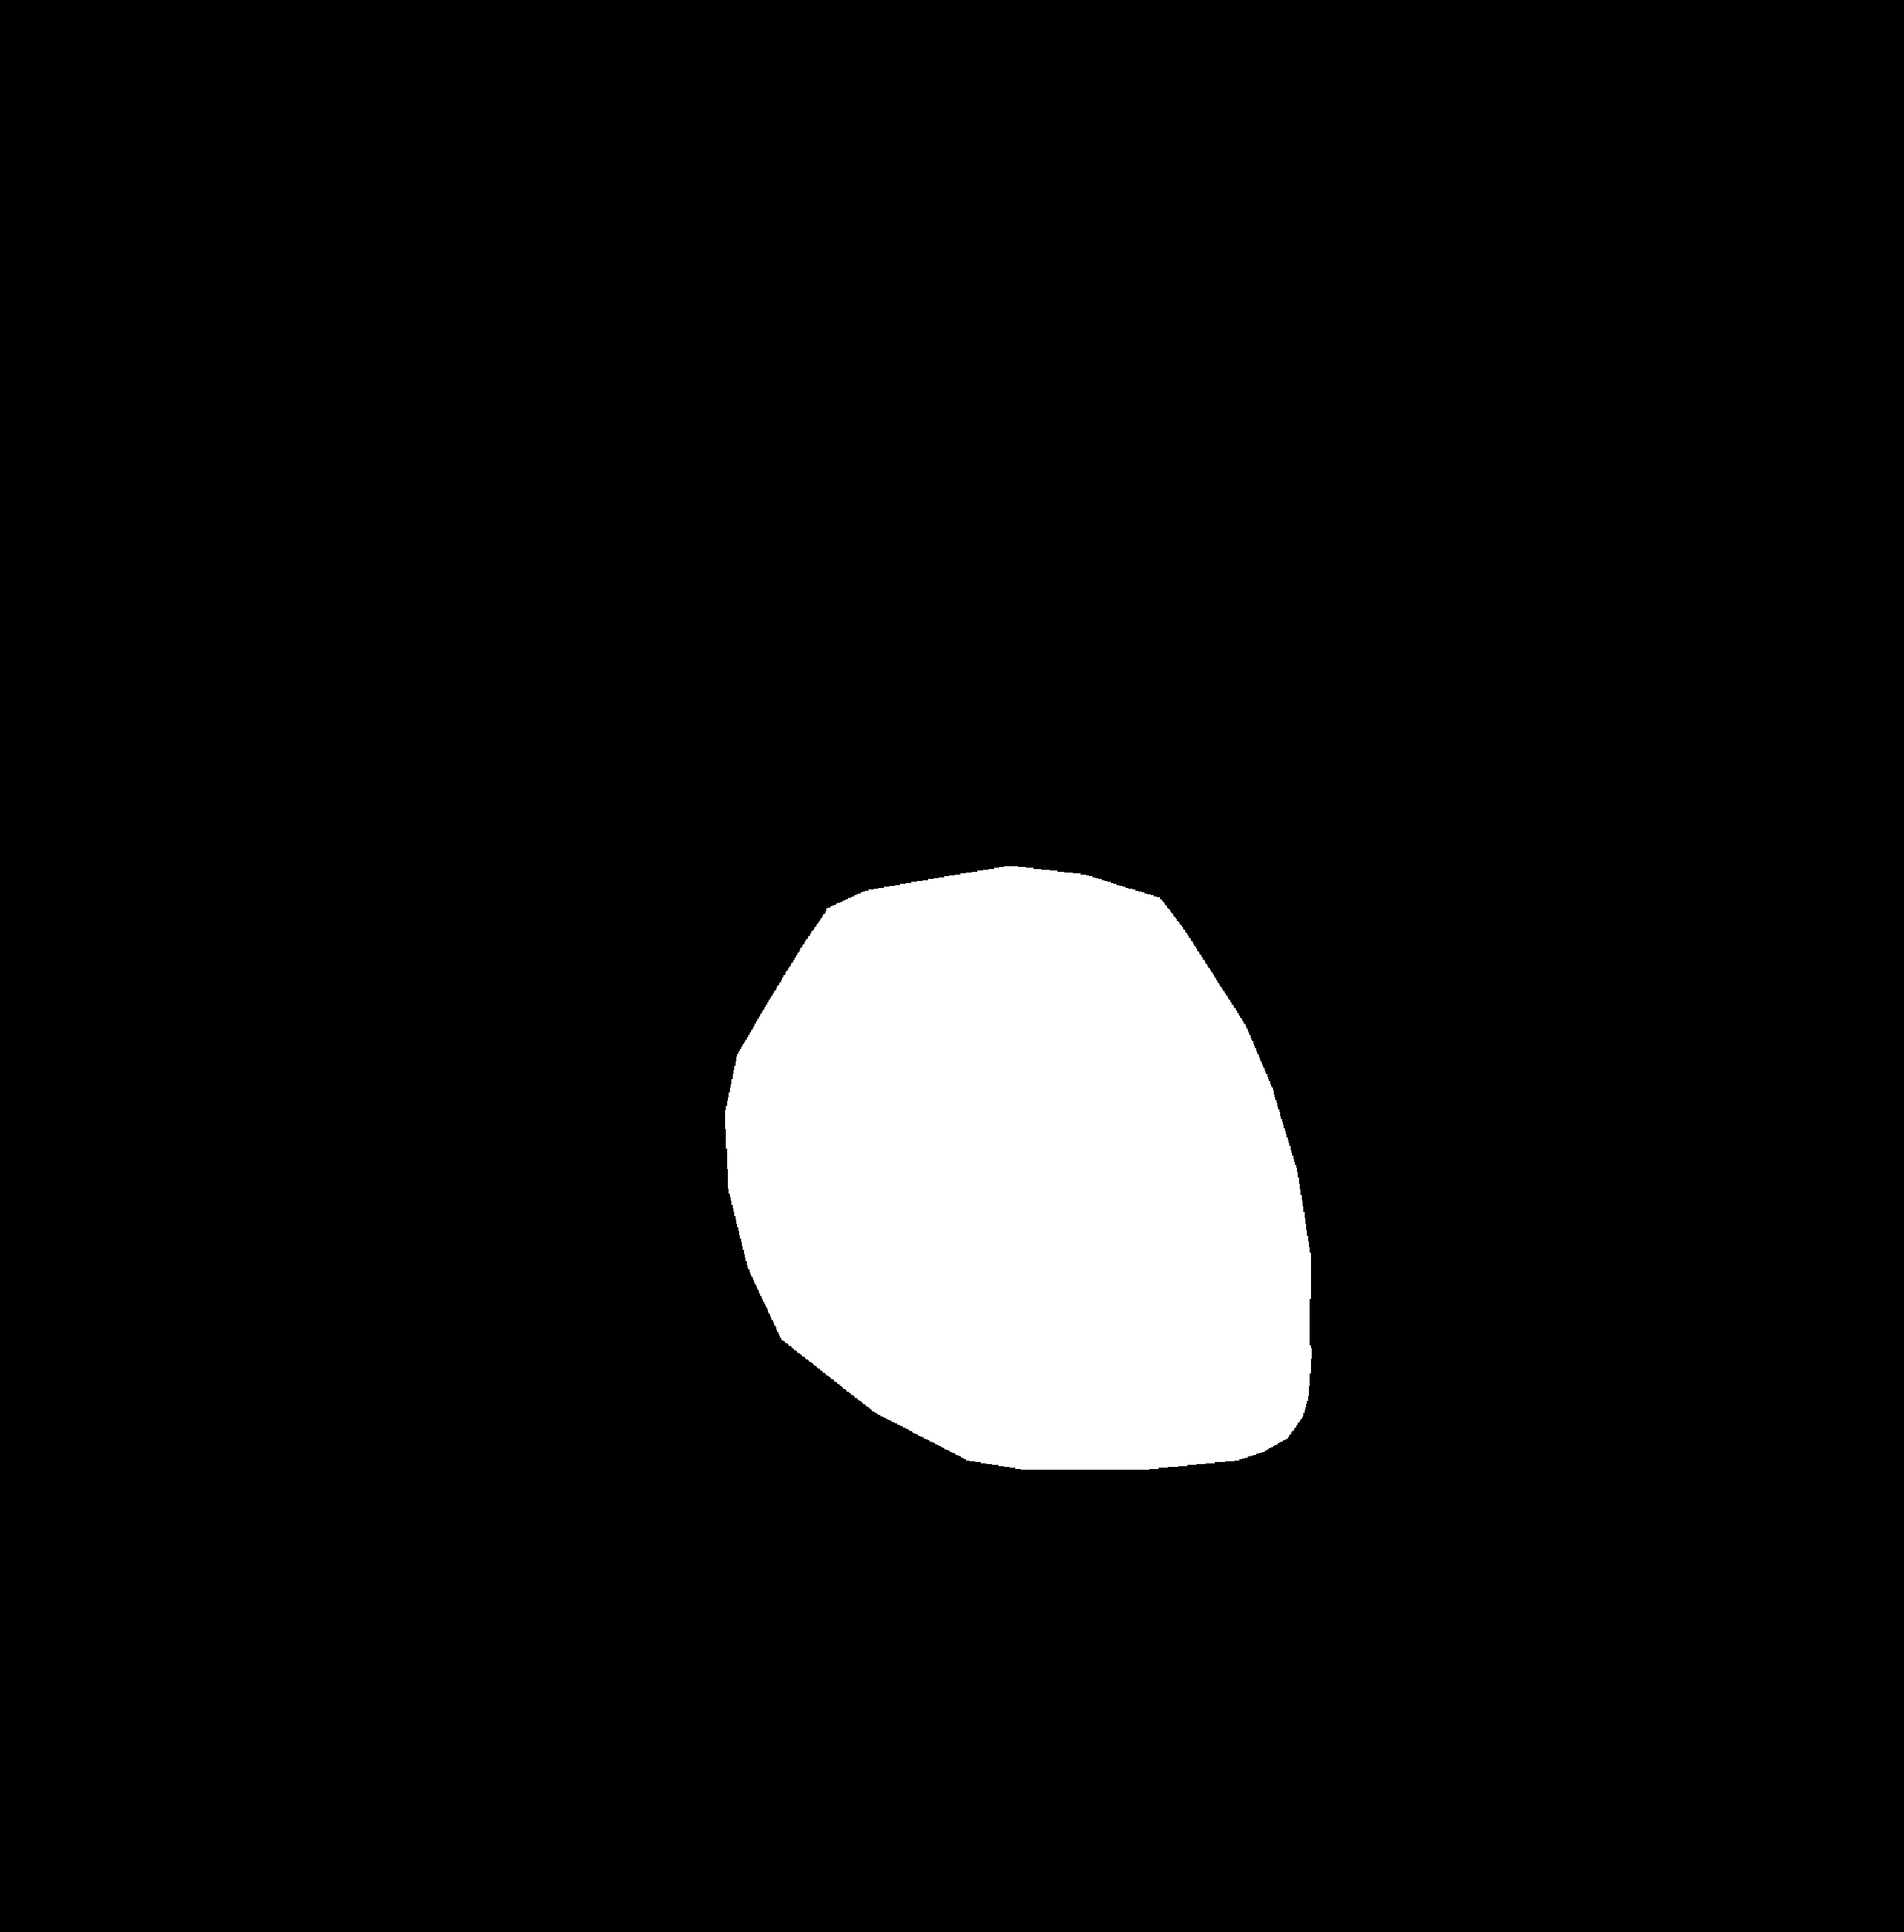heart: (729, 901, 1306, 1465)
left_lung: (230, 246, 891, 1559)
right_lung: (1037, 246, 1649, 1609)
